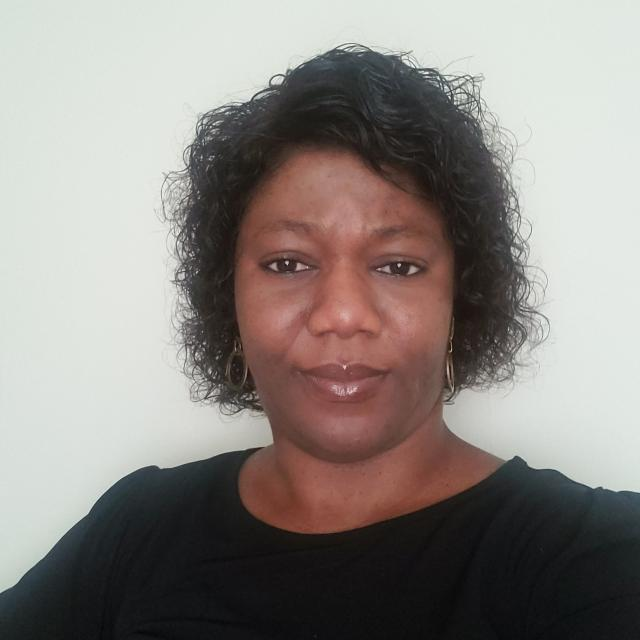sad: (208, 130, 470, 468)
